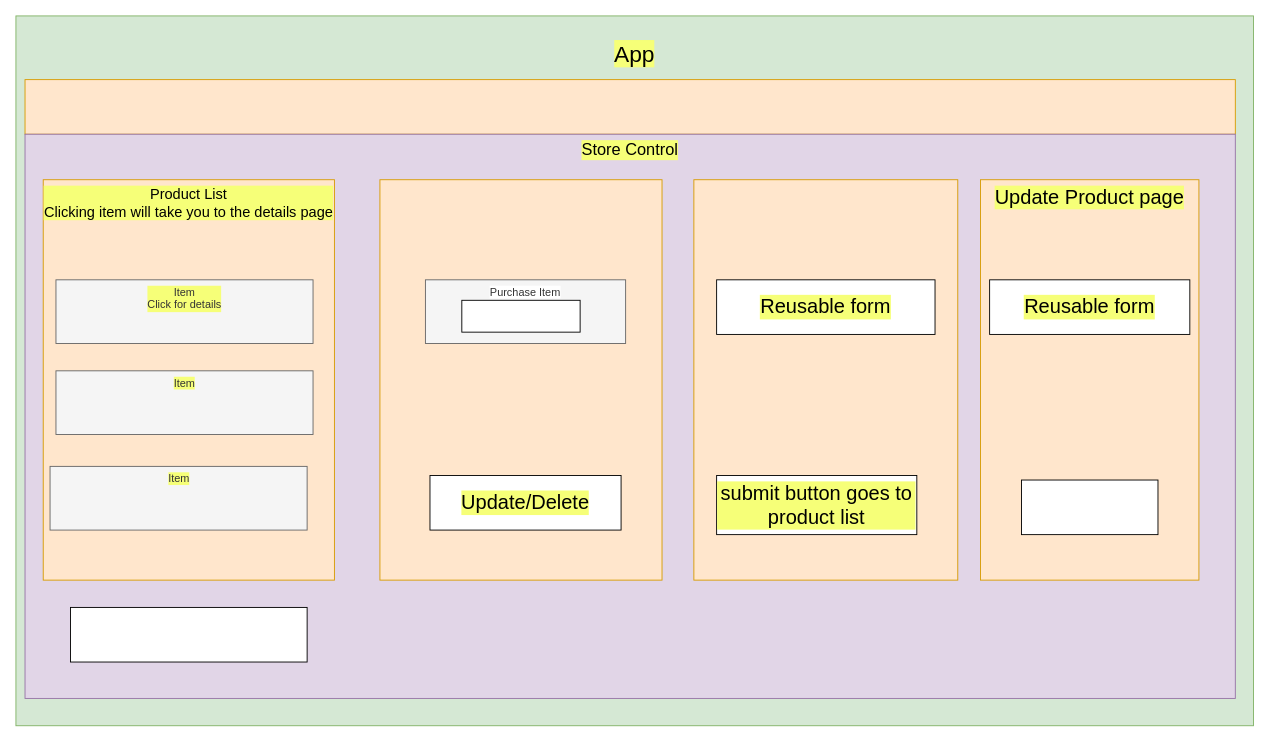
The diagram is 1269 pixels wide and 742 high, and some of its shapes have lost their labels. The shapes that lost their labels are listed below. From the top down, each one's box as (x1, y1, x2, y2) in pixels, then its label:
(24, 79, 1235, 134): Header
(461, 299, 580, 332): Buy button decreases inventory buy 1 pound
(379, 179, 662, 580): Product Details
(693, 179, 958, 580): New product page
(1021, 479, 1158, 535): Update
(70, 607, 307, 662): Add product button
